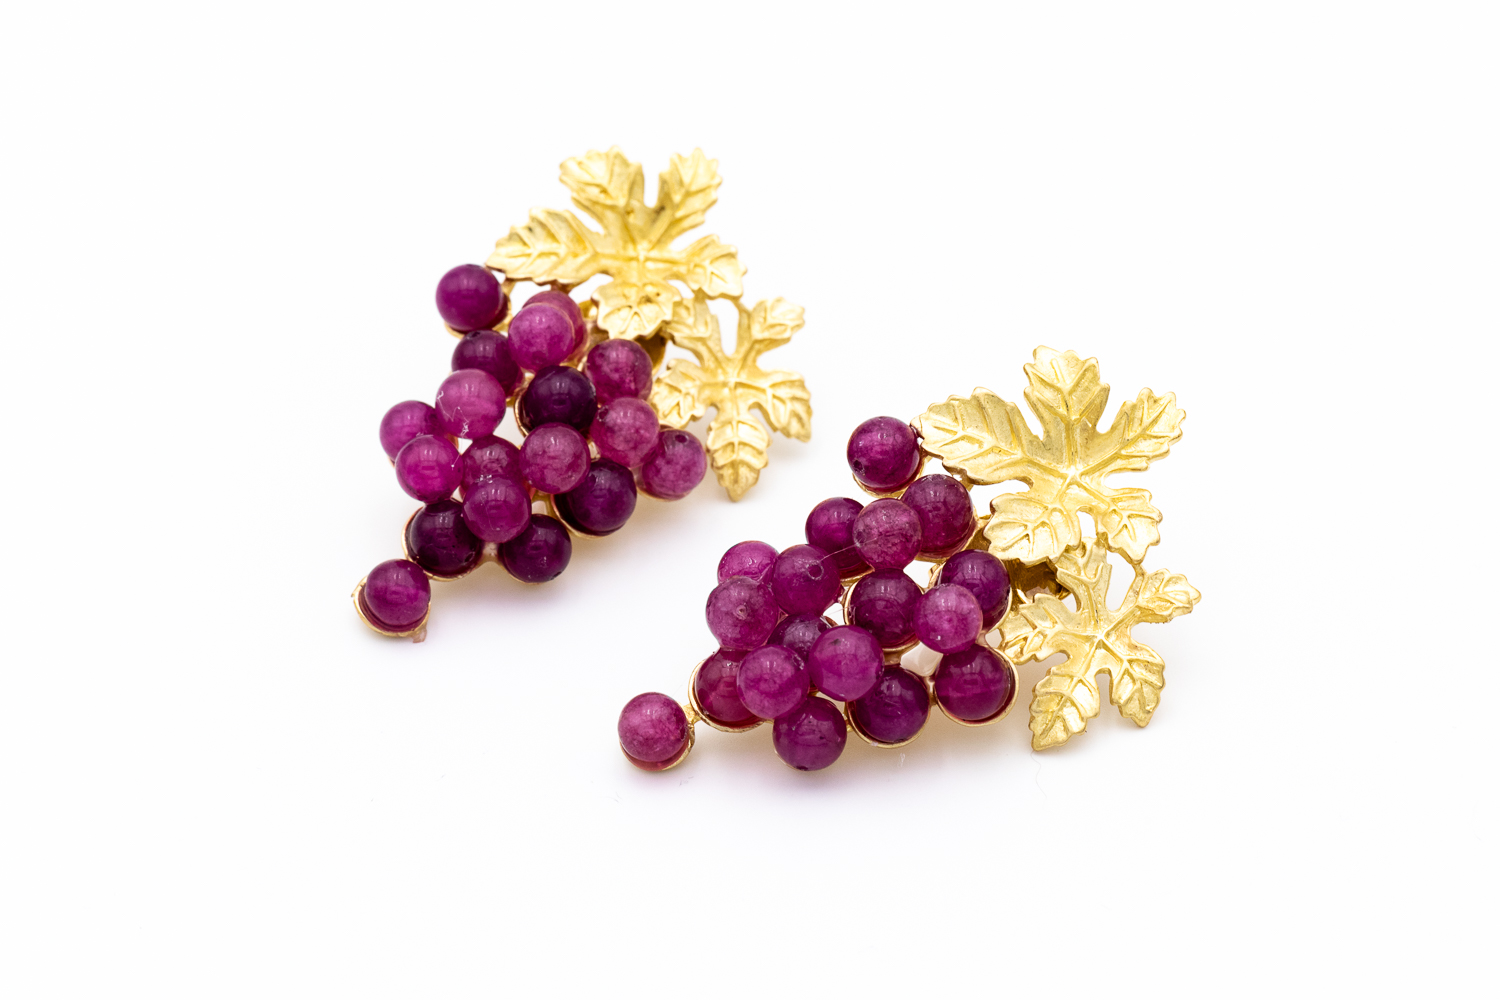Red Grapes: (622, 396, 1140, 777), (336, 232, 769, 632)
